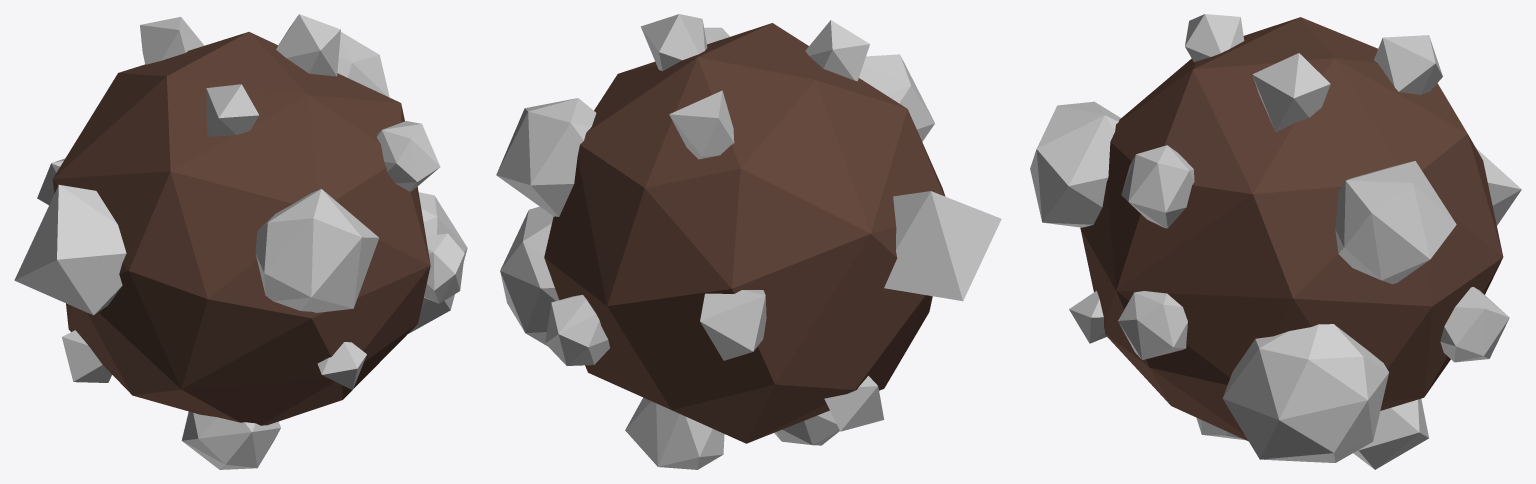
File: ore_planet9.fbx
3 renders of one model, left to right at view 1: azimuth 30°, elevation 25°; view 2: azimuth 150°, elevation 25°; view 3: azimuth 270°, elevation 25°, orthographic. The views are drawn at different scales.
Parts seen in each view (by area): view 1: ore_planet9; view 2: ore_planet9; view 3: ore_planet9.
Boxes of the visible parts, bbox=[...] form: ore_planet9: bbox=[14, 14, 467, 469]; ore_planet9: bbox=[496, 14, 1001, 469]; ore_planet9: bbox=[1030, 14, 1521, 469].
Size of the model in its own units: 260 by 232 by 237.
